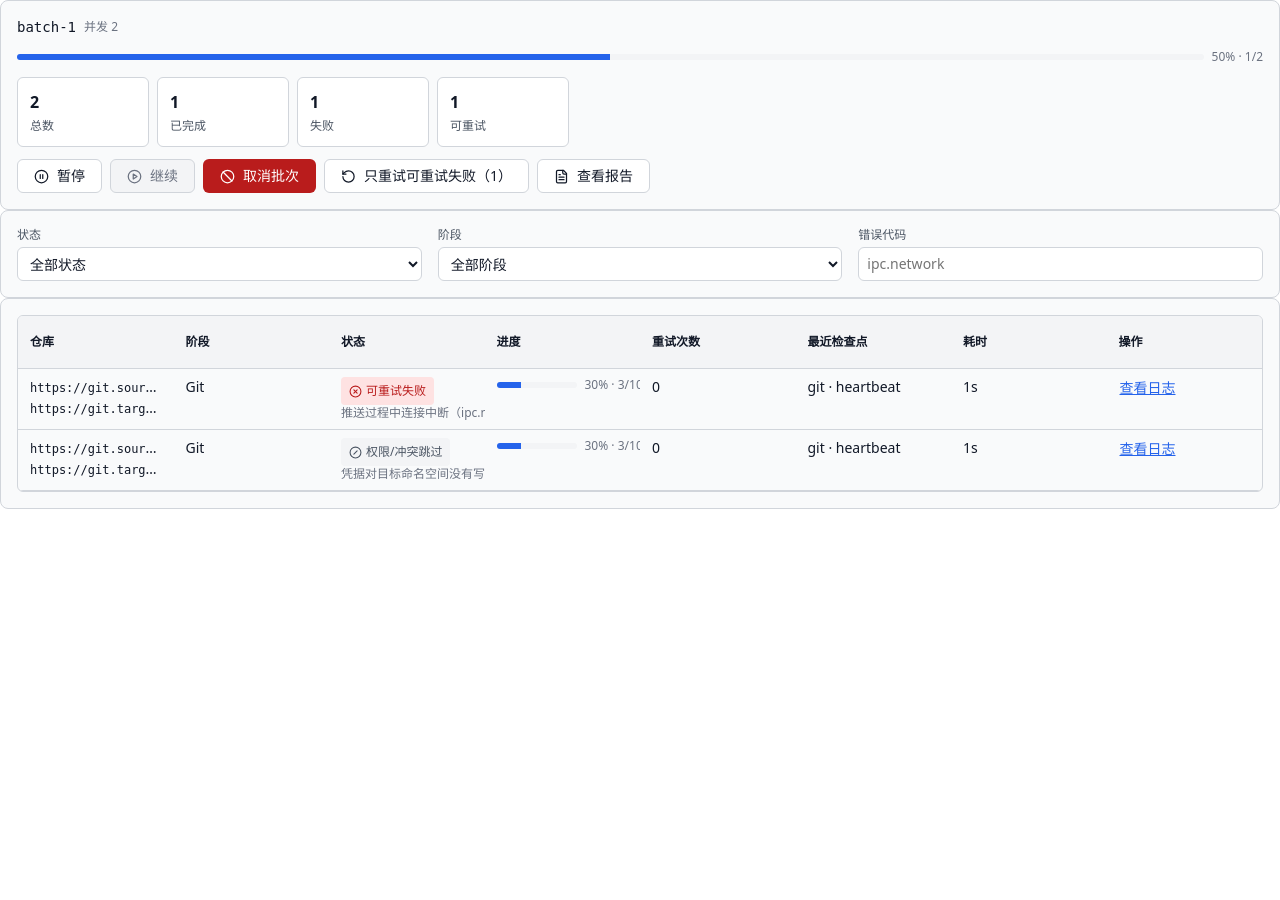
it: 迁移队列页 › 只重试后端标记为可重试的任务
What coordinates should you click on to do the following:
click the button "只重试可重试失败（1）"
I would click on:
 (426, 176)
Its box is x1=324 y1=159 x2=529 y2=193.
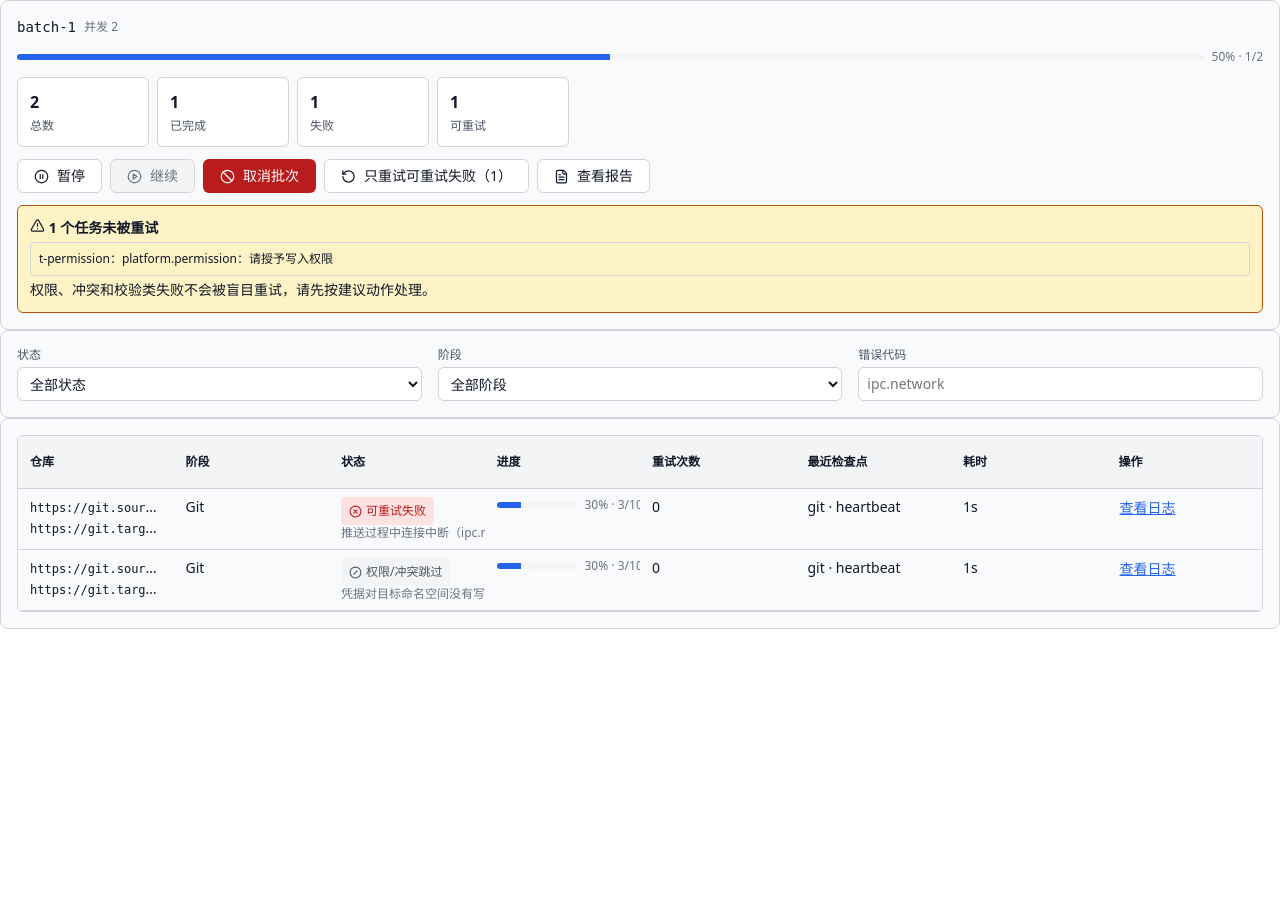
expect the text "1 个任务未被重试" is shown: met, box x1=30 y1=218 x2=158 y2=237
expect the list item "t-permission：platform.permission：请授予写入权限" is shown: met, box x1=30 y1=242 x2=1250 y2=276
